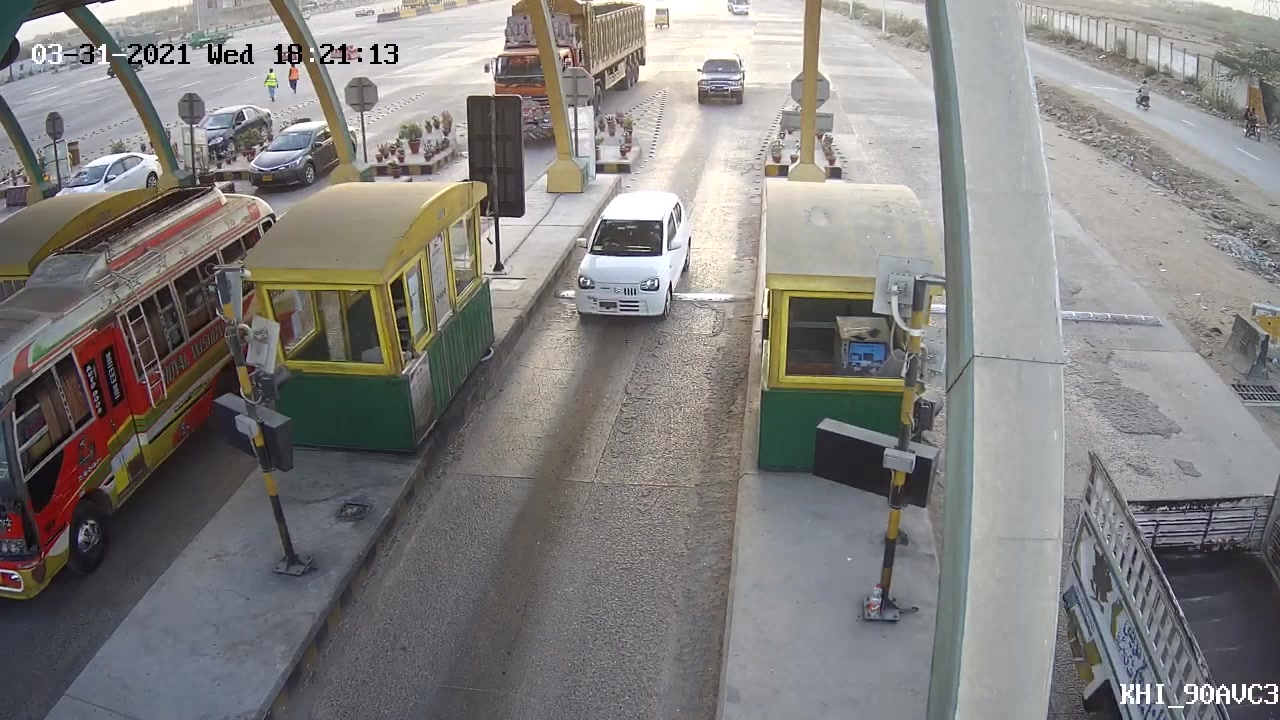F1: (568, 192, 702, 324)
